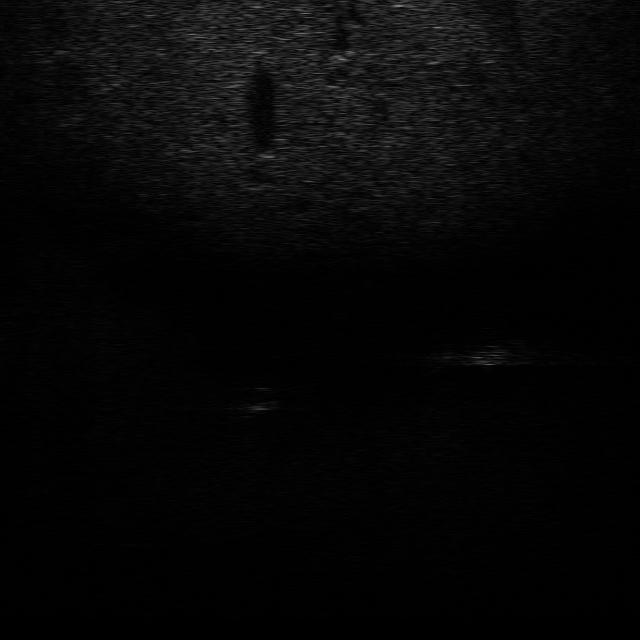ball: (232, 382, 284, 416)
human body: (421, 334, 541, 375)
